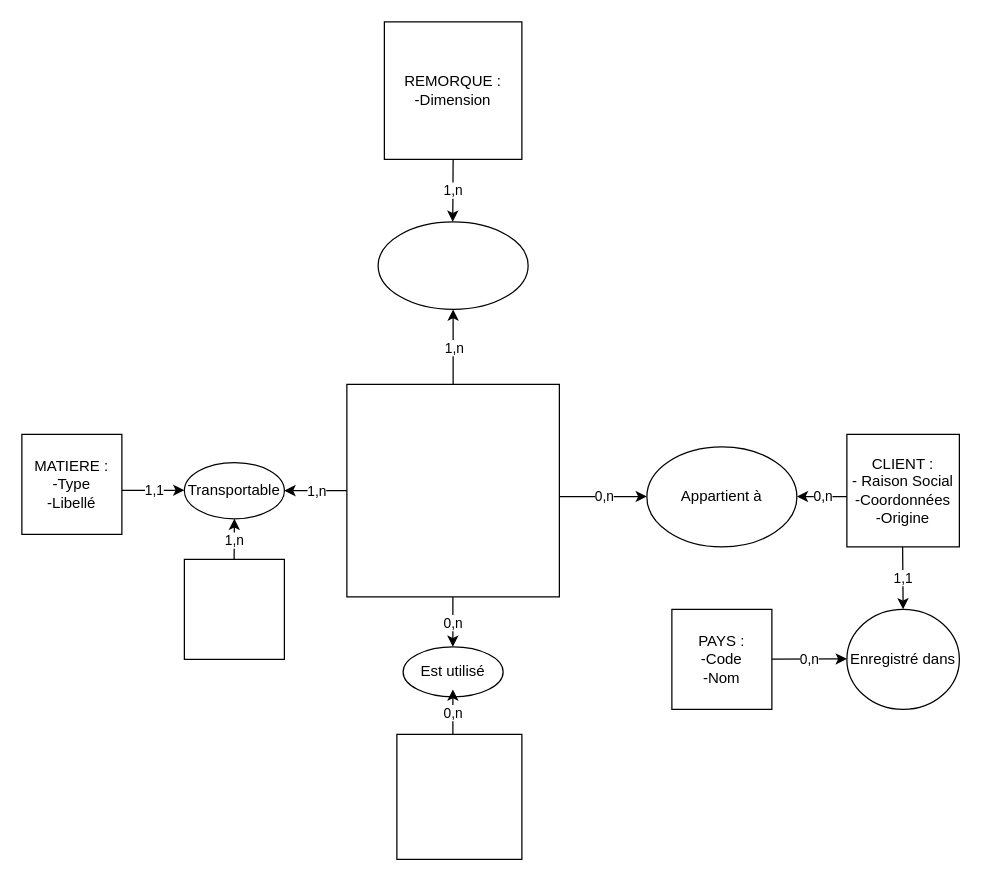
The diagram is 981 pixels wide and 881 high, and some of its shapes have lost their labels. Here are the shapes that lost their labels. From the top down, the box of each, then its label:
(377, 221, 528, 309): Placer sur
(346, 383, 559, 597): CONTAINER : - ID Container -Taille -Code Client -Code type mat -Fréquence
(183, 558, 284, 659): QUANTITE MAT : - Quantité max
(396, 733, 522, 859): ANNEE : - Nombre de fois
